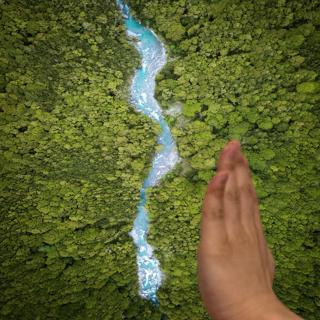RIGHT: (193, 135, 290, 320)
